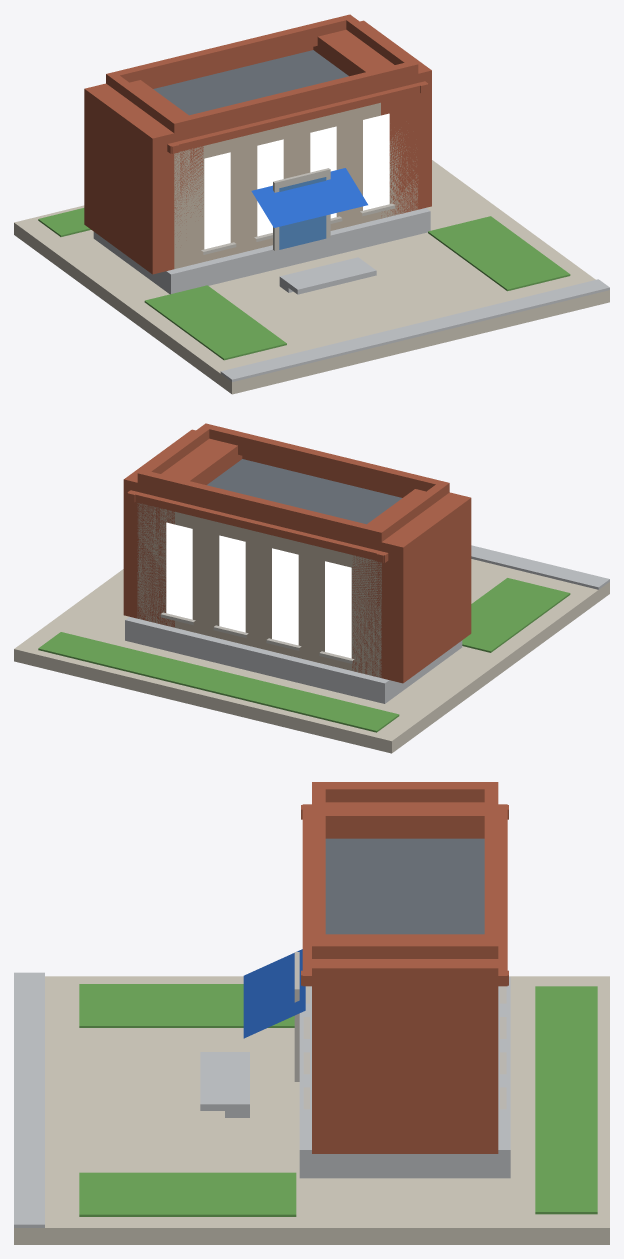
3 renders of one model, top to bottom at view 1: azimuth 30°, elevation 25°; view 2: azimuth 150°, elevation 25°; view 3: azimuth 270°, elevation 25°, orthographic. The views are drawn at different scales.
Parts seen in each view (by area): view 1: b28_v2_lod1; view 2: b28_v2_lod1; view 3: b28_v2_lod1.
Part boxes in pixels (box(x1,y1,x2,y2)): b28_v2_lod1: box(14, 14, 609, 394); b28_v2_lod1: box(14, 423, 609, 753); b28_v2_lod1: box(14, 782, 609, 1244).
Size of the model in its own units: 0.96 by 0.433 by 0.96.
